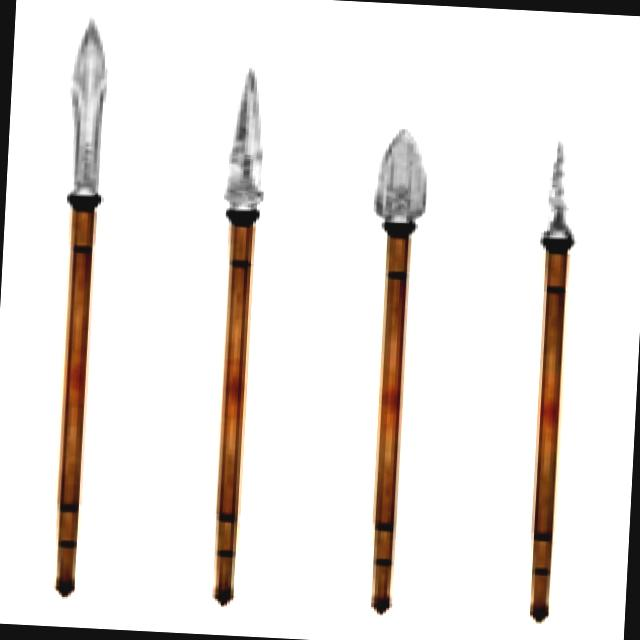spear: (17, 0, 125, 588), (189, 64, 299, 618), (492, 120, 608, 634), (338, 104, 439, 632)
